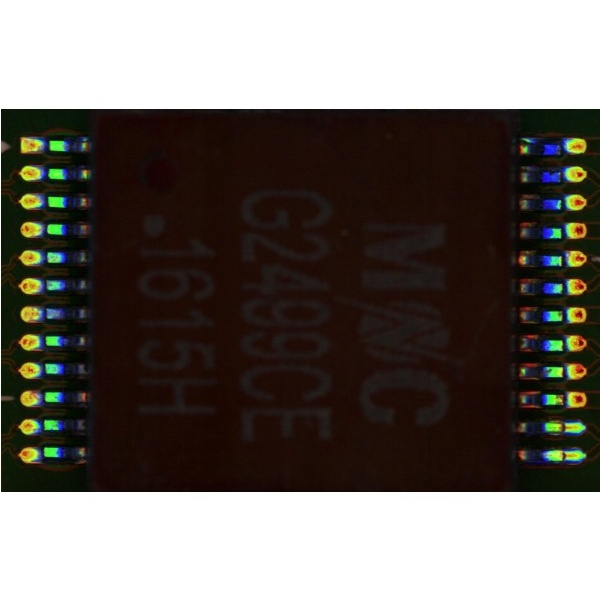Bad_podu: (556, 450, 575, 458), (554, 424, 577, 430)
